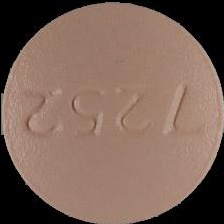68151-1452: (0, 0, 224, 224)
